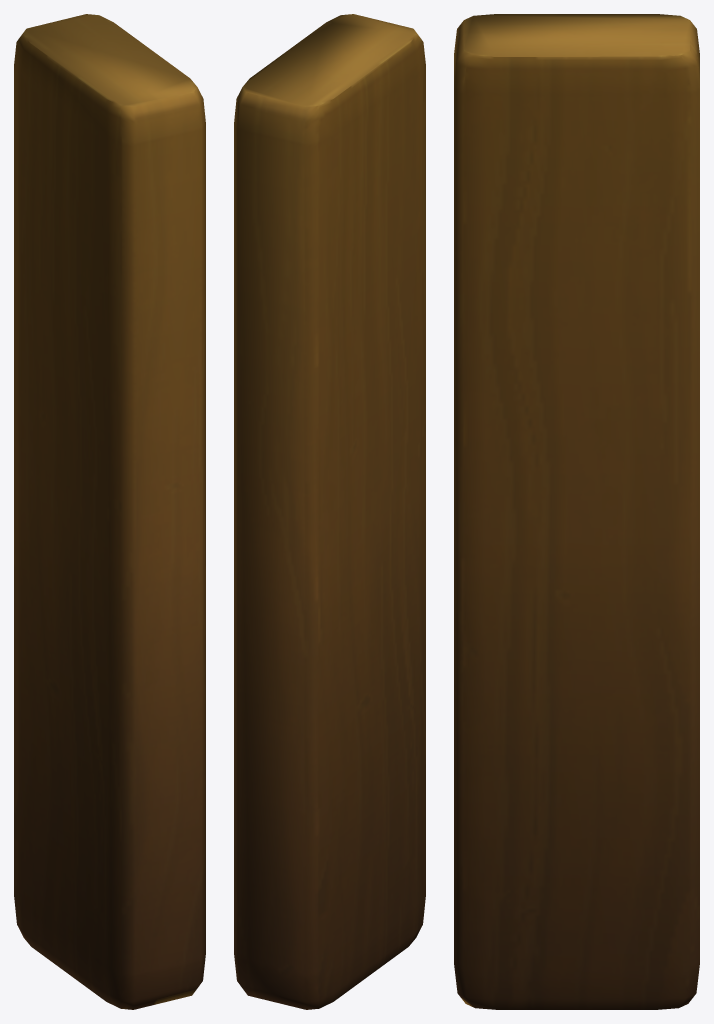
Rendered from Fence_Plank.glb.
3 renders of one model, left to right at view 1: azimuth 30°, elevation 25°; view 2: azimuth 150°, elevation 25°; view 3: azimuth 270°, elevation 25°, orthographic. The views are drawn at different scales.
Parts seen in each view (by area): view 1: PLank v1; view 2: PLank v1; view 3: PLank v1.
Boxes of the visible parts, box(x1,y1,x2,y2) form: PLank v1: box(14, 14, 205, 1009); PLank v1: box(234, 14, 425, 1009); PLank v1: box(454, 14, 699, 1009).
Size of the model in its own units: 0.1252 by 1.19 by 0.2773.
1 material, 1 textured.
